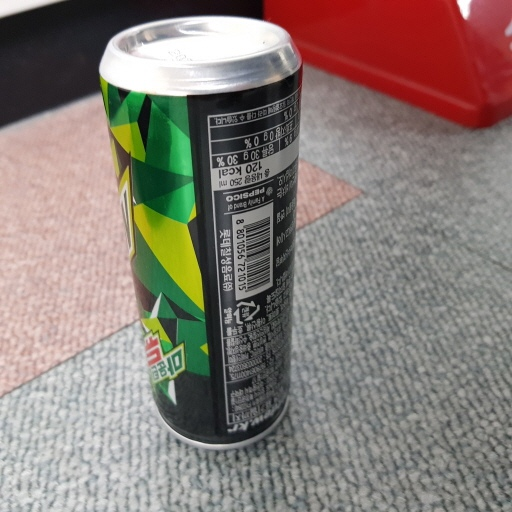Metal_0: (99, 12, 301, 451)
